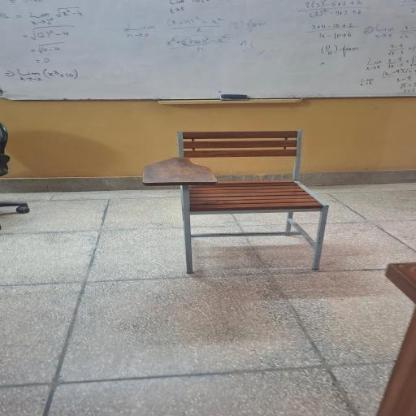chair: (141, 120, 336, 275)
